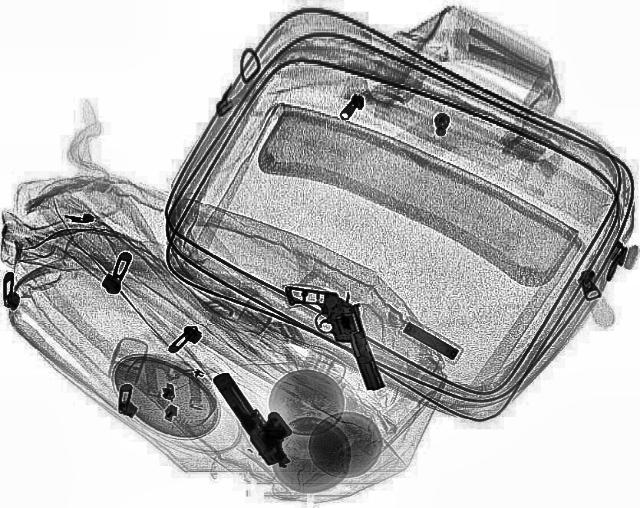Gun: (280, 274, 390, 400), (209, 365, 309, 472)
